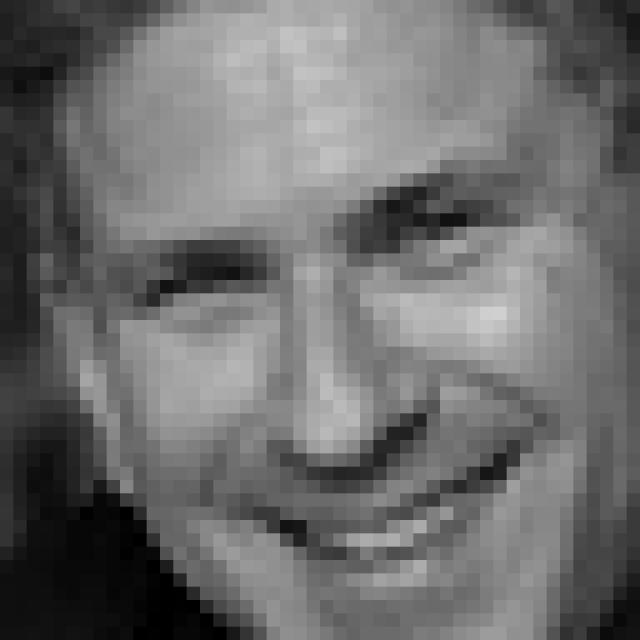happy: (106, 151, 584, 610)
